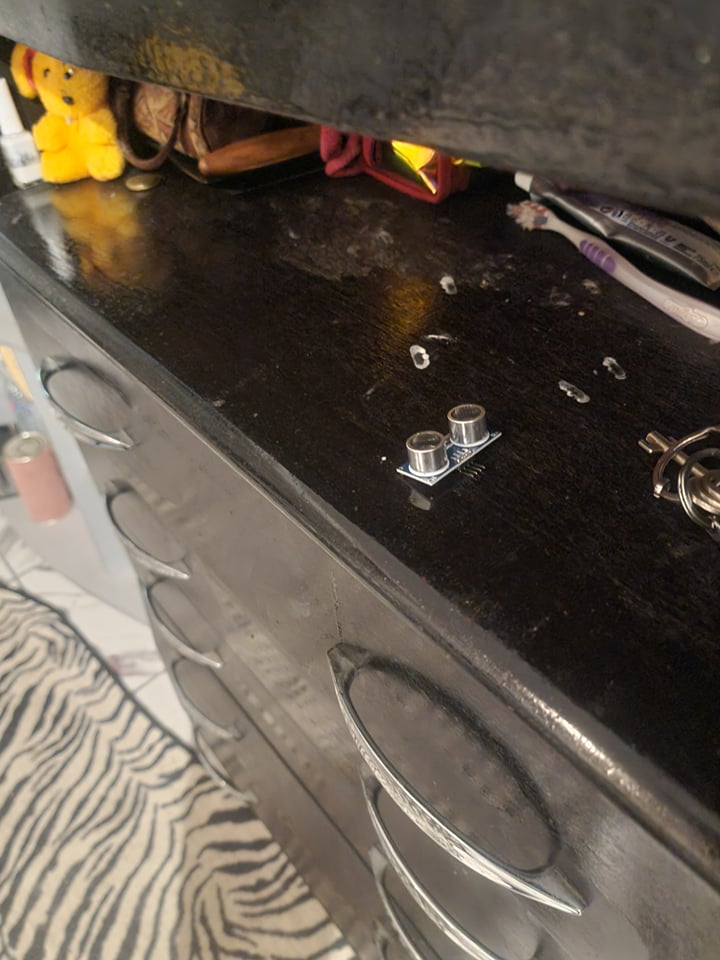SENSOR: (393, 400, 505, 489)
